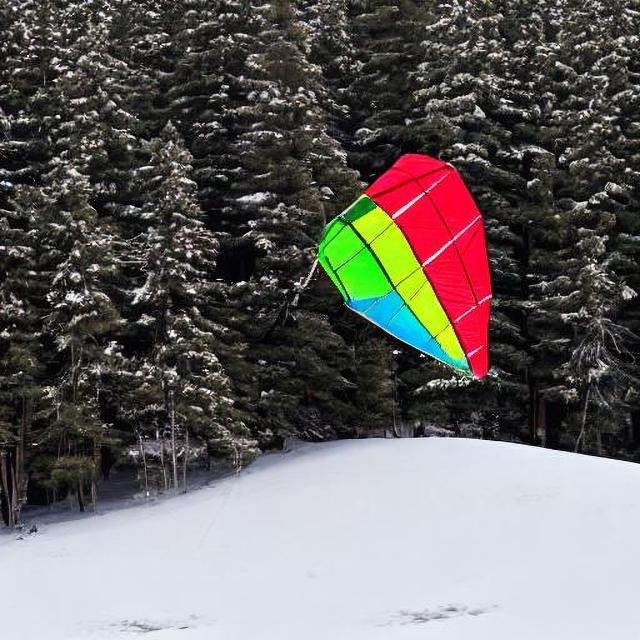floating object: (316, 148, 490, 370), (216, 236, 258, 284)
